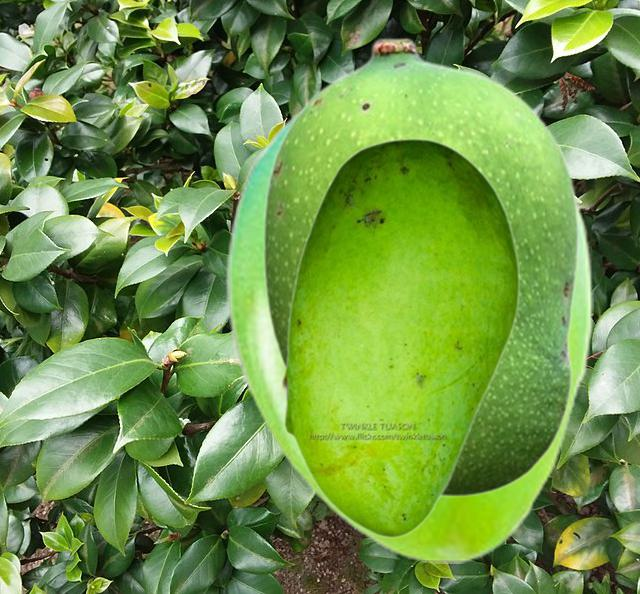green_mango: (224, 102, 592, 562), (261, 36, 578, 497), (280, 137, 520, 538)
